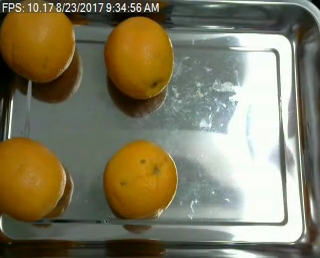Orange: (1, 1, 75, 81), (104, 139, 178, 218), (104, 15, 173, 97), (1, 137, 67, 219)
